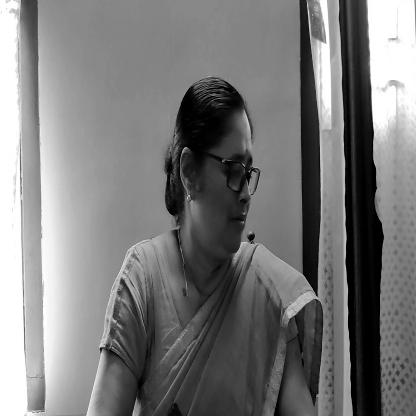Distracted: (177, 84, 255, 260)
